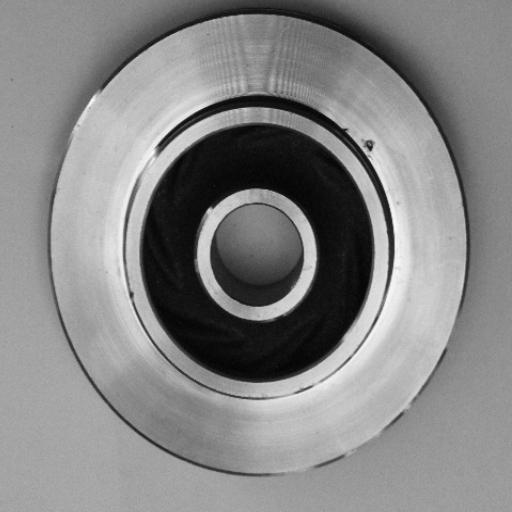crack: (357, 129, 383, 161)
scratch: (122, 139, 163, 224)
unpolished_casting: (49, 11, 466, 480)
